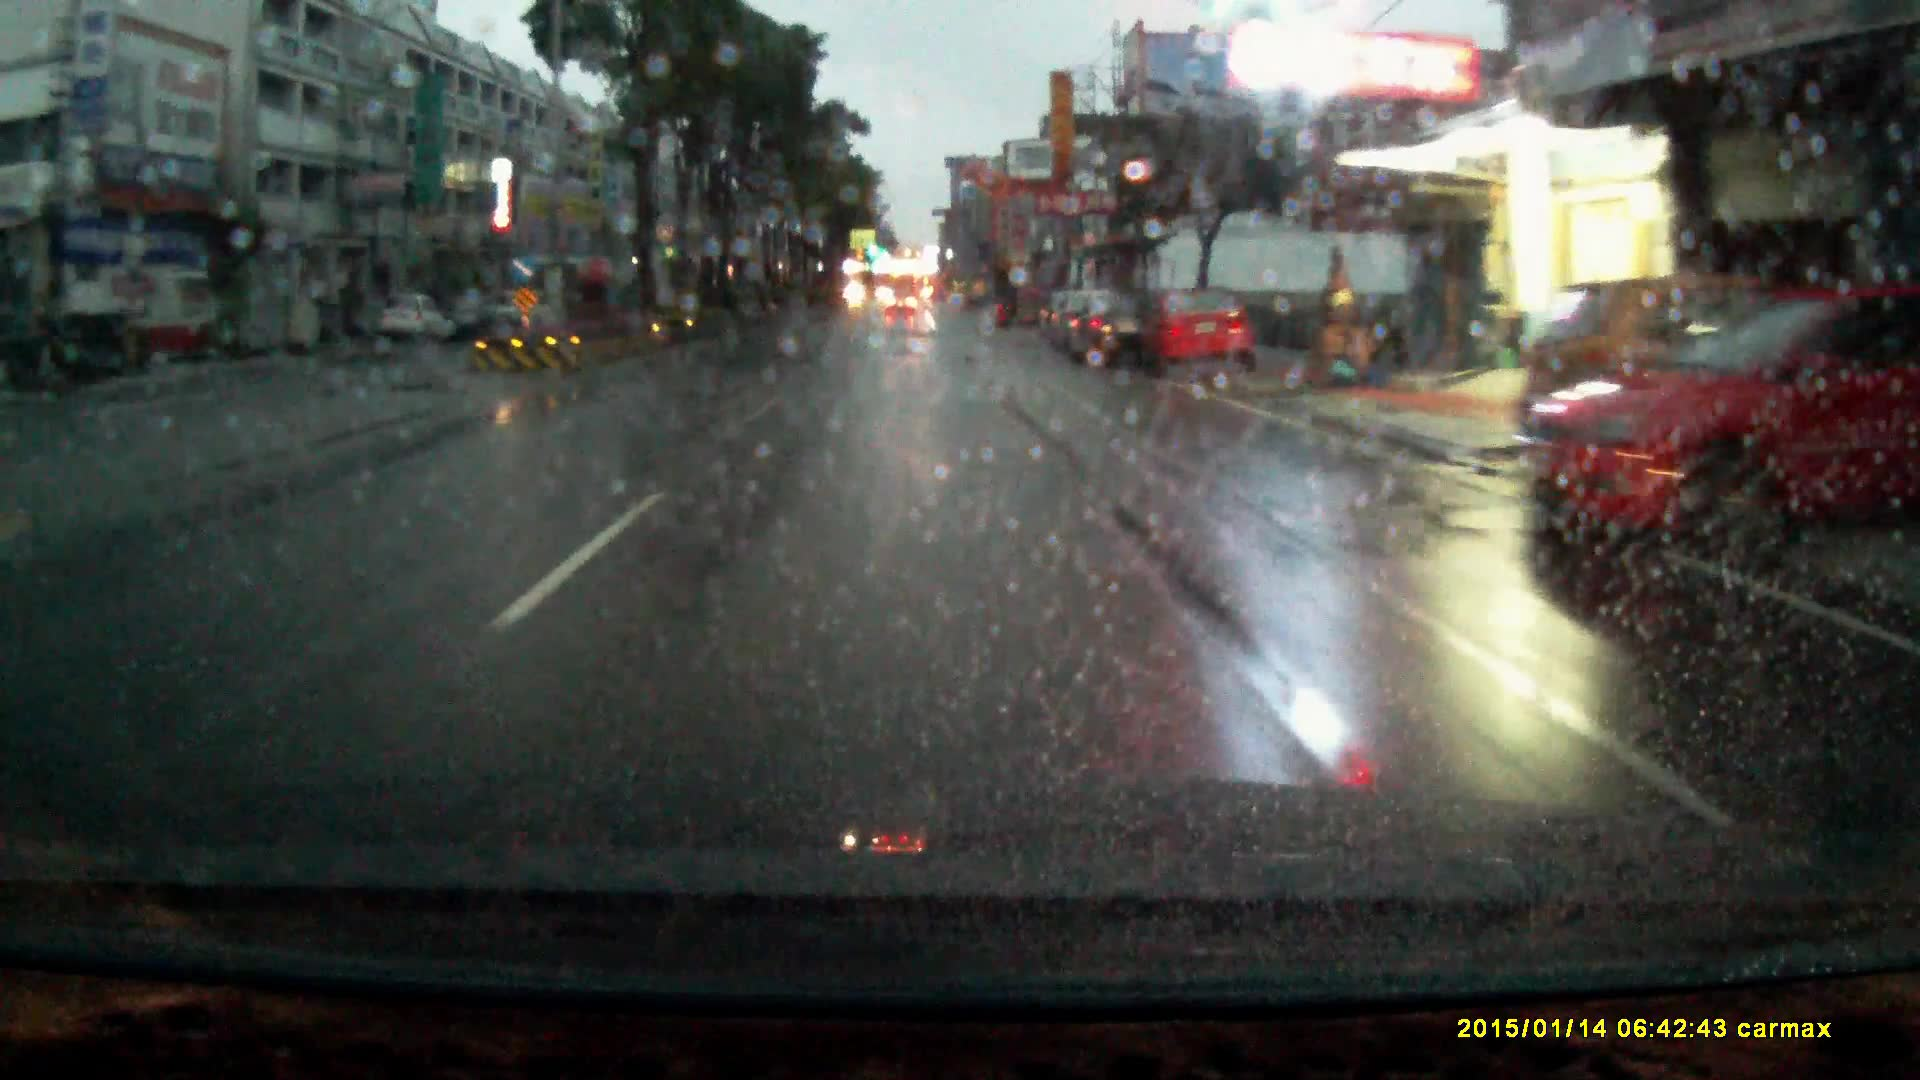vehicle: (1520, 284, 1902, 553), (1135, 291, 1257, 386), (1062, 295, 1145, 377), (375, 290, 448, 345), (484, 286, 559, 334), (1043, 289, 1063, 344), (887, 290, 918, 316)
